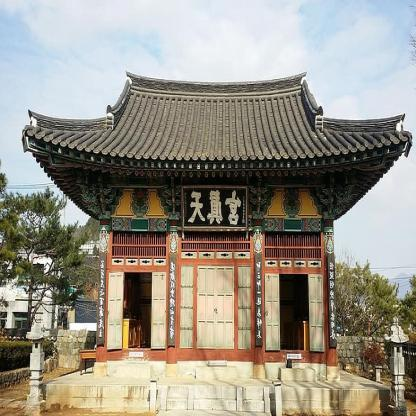Building Outline: (22, 70, 413, 366)
Deco: (181, 186, 249, 230), (327, 253, 337, 349), (97, 253, 107, 346), (254, 254, 263, 346), (168, 255, 176, 346)
Door: (198, 265, 234, 350), (279, 274, 310, 350), (124, 272, 152, 349)
Facade: (99, 177, 332, 362)
Floor: (99, 187, 332, 361)
Roof: (22, 70, 413, 222)
Window: (265, 232, 321, 257), (181, 231, 250, 250), (112, 233, 166, 255)
